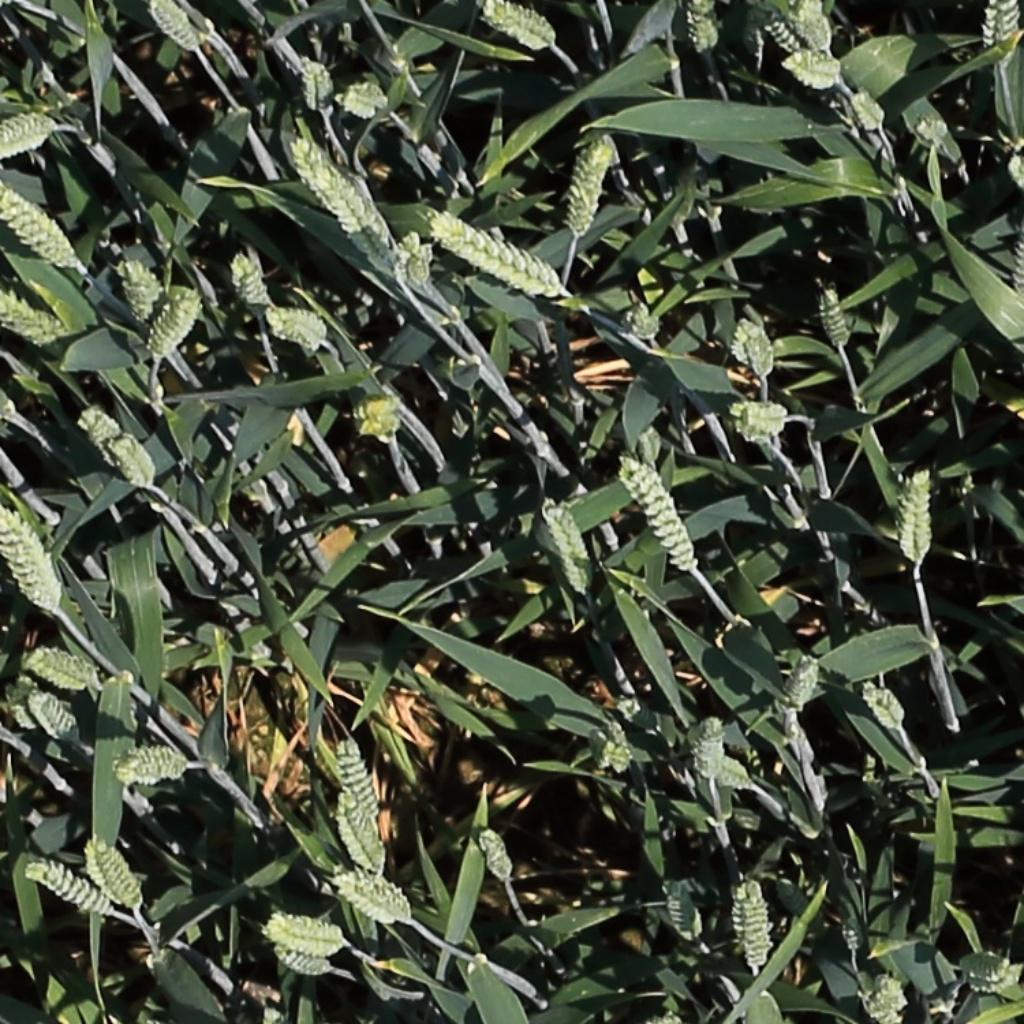0-0: (424, 206, 568, 303), (290, 136, 393, 255), (618, 453, 701, 573), (0, 172, 80, 271), (0, 502, 61, 614), (540, 499, 593, 596), (83, 834, 144, 918), (24, 862, 113, 917), (335, 787, 386, 880), (727, 875, 771, 978), (147, 283, 203, 363), (569, 132, 610, 241), (337, 737, 383, 830), (895, 465, 935, 568), (109, 743, 189, 790), (334, 873, 410, 922), (478, 0, 558, 46), (0, 288, 68, 339), (107, 430, 158, 494), (143, 0, 203, 54), (228, 245, 274, 314), (348, 391, 409, 441), (25, 688, 79, 744), (858, 677, 910, 735), (120, 252, 159, 327), (692, 749, 757, 792), (819, 278, 856, 353), (737, 311, 776, 382), (664, 876, 703, 947), (783, 651, 823, 720), (477, 824, 518, 890), (266, 917, 345, 951), (23, 652, 98, 686), (336, 80, 396, 122), (0, 109, 49, 159), (783, 55, 846, 93), (599, 714, 636, 778), (761, 10, 809, 58), (797, 0, 836, 57), (266, 309, 327, 344), (849, 83, 891, 133), (300, 49, 330, 118), (861, 978, 905, 1024), (400, 226, 432, 289), (983, 0, 1020, 54), (700, 712, 726, 786), (689, 1, 720, 60), (628, 296, 663, 344), (273, 946, 331, 974), (839, 900, 865, 952), (966, 966, 1019, 991)
